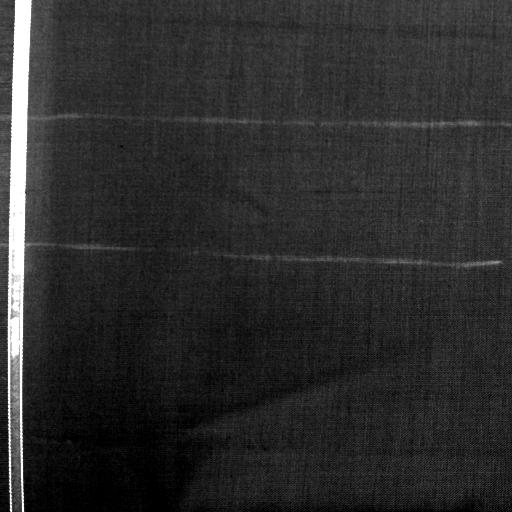fabric_broken_pick: (294, 180, 400, 202)
